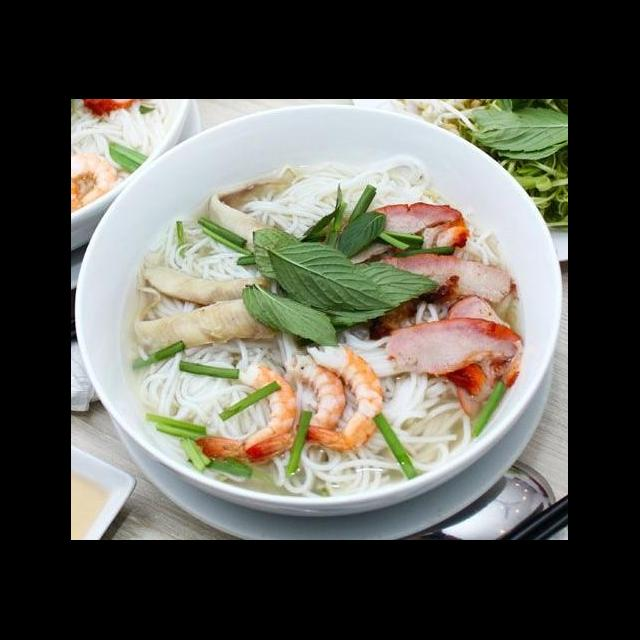bun: (138, 332, 476, 498), (236, 147, 437, 246), (154, 212, 272, 286)
ca: (128, 292, 286, 353), (208, 172, 308, 254), (136, 260, 284, 306)
thit heo quay: (439, 292, 532, 424), (338, 198, 474, 274), (348, 250, 518, 310), (384, 316, 530, 380)
tom: (242, 350, 350, 468), (190, 358, 302, 468), (296, 340, 389, 454)
